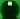black: (0, 0, 20, 19)
